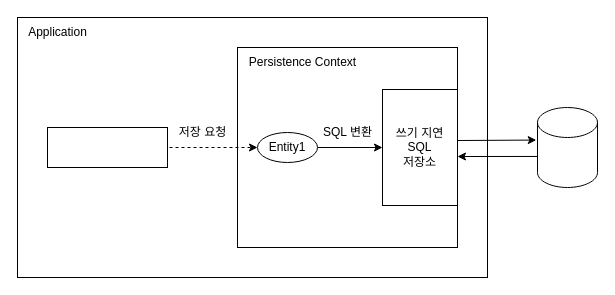
Some shapes in this 615 by 295 pixel diagram are drawn without their labels. Here are the shapes that lost their labels. From the top down, the centre of each, then its label:
point (107, 147): ≪ interface≫ EntityManager
point (567, 147): DB
